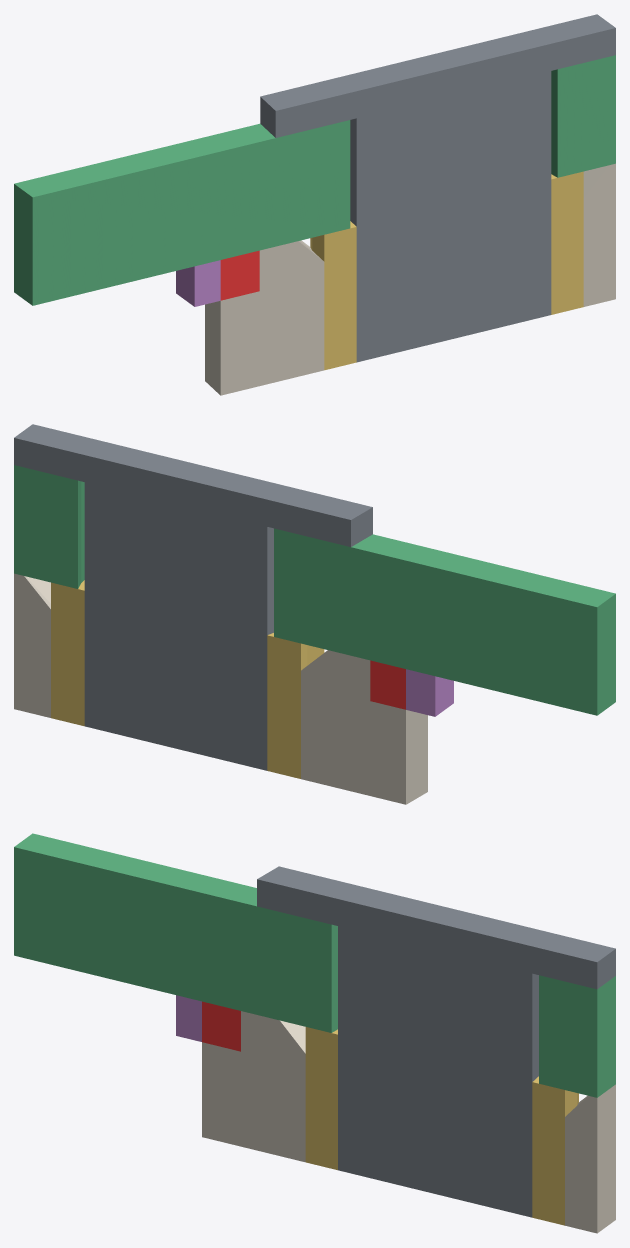
File: short-component-boss-collision-0p6mm.actual.glb
3 renders of one model, top to bottom at view 1: azimuth 30°, elevation 25°; view 2: azimuth 150°, elevation 25°; view 3: azimuth 330°, elevation 25°, orthographic.
Parts seen in each view (by area): view 1: EN1.H1.screw, board, base, EN1.H1.insert, C1, intersection-highlight; view 2: EN1.H1.screw, board, base, EN1.H1.insert, C1, intersection-highlight; view 3: EN1.H1.screw, board, base, EN1.H1.insert, intersection-highlight, C1.
Boxes of the visible parts, bbox=[...] form: EN1.H1.screw: bbox=[260, 14, 615, 362]; board: bbox=[14, 55, 615, 305]; base: bbox=[205, 163, 615, 395]; EN1.H1.insert: bbox=[310, 171, 583, 370]; C1: bbox=[176, 260, 220, 306]; intersection-highlight: bbox=[220, 250, 259, 300]; EN1.H1.screw: bbox=[14, 424, 372, 770]; board: bbox=[14, 465, 615, 715]; base: bbox=[14, 573, 427, 804]; EN1.H1.insert: bbox=[51, 580, 324, 778]; C1: bbox=[406, 669, 453, 716]; intersection-highlight: bbox=[370, 660, 405, 709]; EN1.H1.screw: bbox=[257, 866, 615, 1217]; board: bbox=[14, 833, 615, 1097]; base: bbox=[202, 1011, 615, 1233]; EN1.H1.insert: bbox=[305, 1027, 578, 1225]; intersection-highlight: bbox=[202, 1001, 240, 1051]; C1: bbox=[176, 995, 201, 1041].
Size of the model in its own units: 9 by 4 by 0.5.
